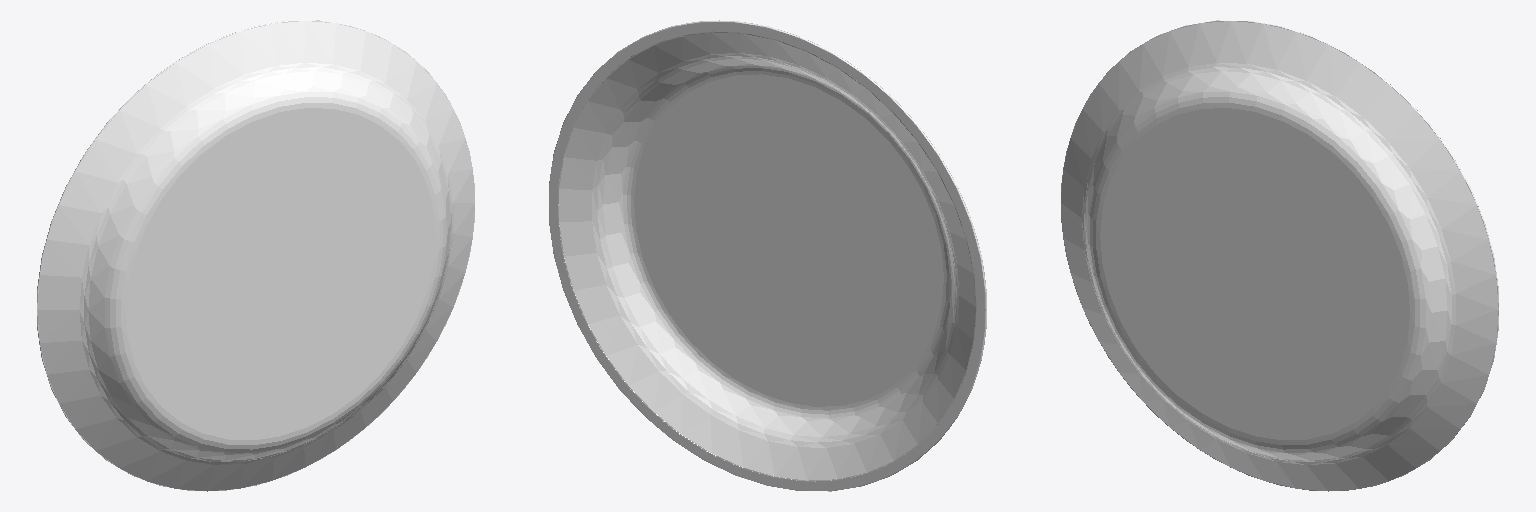
robot.urdf — objects/plate.obj:
<robot name="objects/plate.obj">
	<link name="_name">
		<visual>
			<origin xyz="-1.4558161994088228e-05 0.05330916559587137 -1.6878267322663922e-06" rpy="0.0 0.0 0.0" />
			<geometry>
				<mesh filename="objects/plate.obj" scale="0.004 0.004 0.004" />
			</geometry>
			<material name="texture">
				<color rgba="1.0 1.0 1.0 1.0" />
			</material>
		</visual>
		<collision>
			<origin xyz="-1.4558161994088228e-05 0.05330916559587137 -1.6878267322663922e-06" rpy="0.0 0.0 0.0" />
			<geometry>
				<mesh filename="objects/plate_vhacd.obj" scale="0.004 0.004 0.004" />
			</geometry>
		</collision>
		<inertial>
			<mass value="1.0" />
			<inertia ixx="1.0" ixy="0.0" ixz="0.0" iyy="1.0" iyz="0.0" izz="1.0" />
		</inertial>
	</link>
</robot>

--- What the picture shows (computed from the rendered views, not written in the file) ---
Views: 3 orthographic renders of the robot side by side, from view 1: azimuth 30°, elevation 25°; view 2: azimuth 150°, elevation 25°; view 3: azimuth 330°, elevation 25°.
Model objects/plate.obj with 1 links and 0 joints (none), rooted at _name, posed every joint at zero.
Links seen in each view (by area): view 1: _name; view 2: _name; view 3: _name.
Boxes of the visible links, x1,y1,x2,y2 form: _name: (37,20,474,491); _name: (549,20,986,491); _name: (1061,20,1498,491).
Bounding box of the posed robot: 0.7871 × 0.08 × 0.7891 m (x, y, z).
1 mesh visuals loaded from 1 distinct referenced files (1 OBJ).